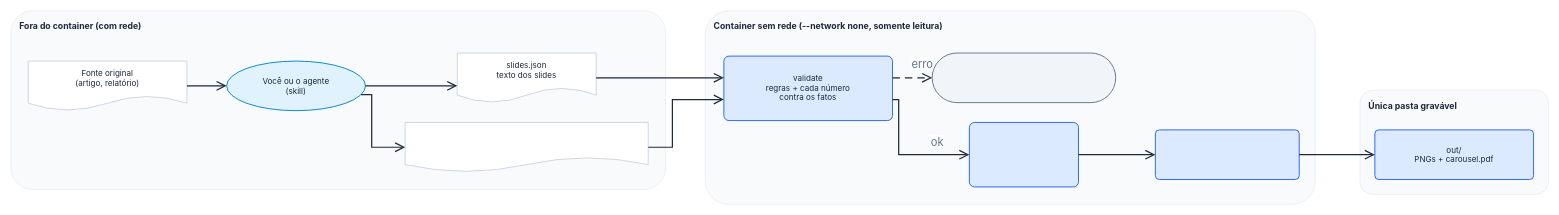
This 1559x215 diagram has some shape labels left out. The shapes that lost their labels are listed below. From the top down, each one's centre as x and y in pixels, then its label:
the point at 1023,77: Número fora dos fatos: reprova, sem PDF
the point at 526,147: fatos.md número + trecho literal + link
the point at 1024,154: render Satori (SVG) resvg (PNG)
the point at 1227,154: pdf monta o carrossel
